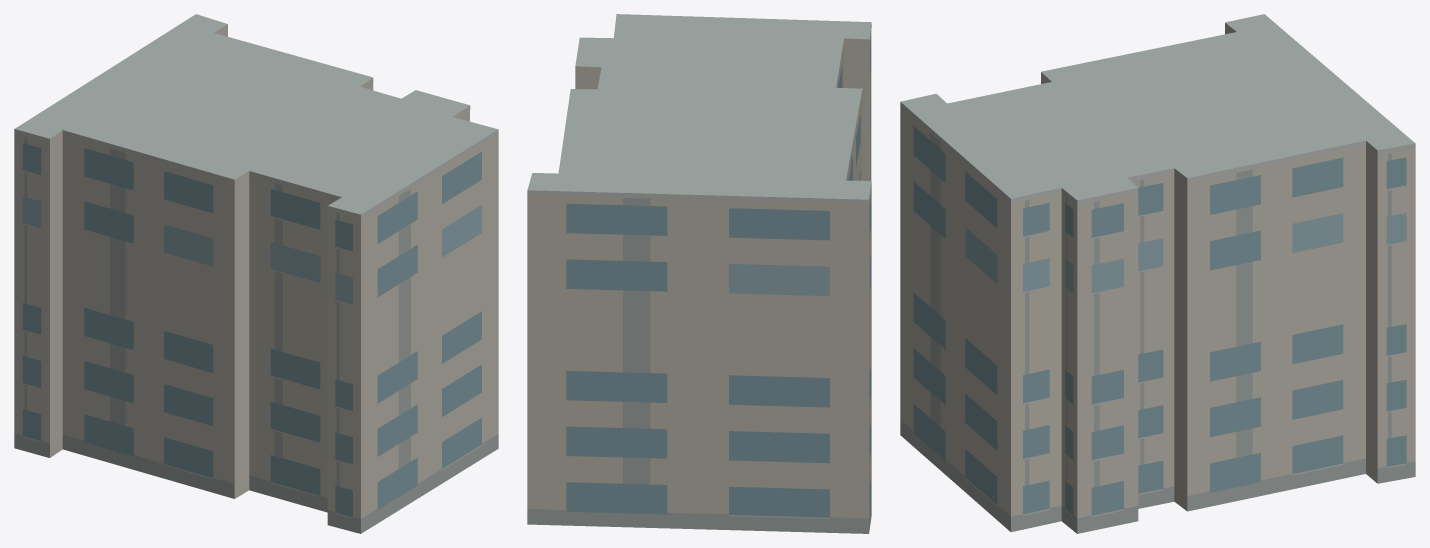
File: survey-upis-32742418.glb
The picture shows the model from 3 angles, left to right: view 1: azimuth 30°, elevation 25°; view 2: azimuth 150°, elevation 25°; view 3: azimuth 270°, elevation 25°; orthographic projection. The views are drawn at different scales.
Visible parts, largest first — view 1: survey-upis-32742418.tmp; view 2: survey-upis-32742418.tmp; view 3: survey-upis-32742418.tmp.
Part boxes in pixels (x1,y1,x2,y2): survey-upis-32742418.tmp: (14,14,498,533); survey-upis-32742418.tmp: (527,14,871,533); survey-upis-32742418.tmp: (900,14,1415,533).
Size of the model in its own units: 19.32 by 16.1 by 22.56.
